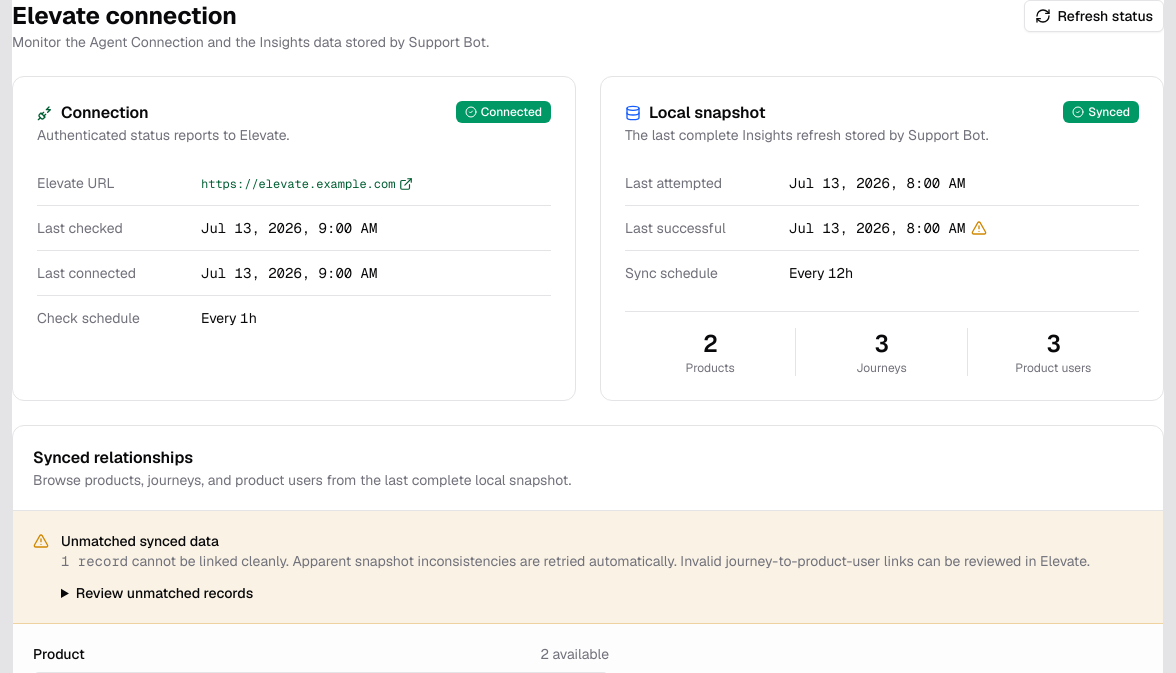
ElevatePage › renders both sides and product contexts of a cross-product assignment
The width and height of the screenshot is (1176, 673).
Click the heading "Review unmatched records".
click(157, 593)  # box [61, 583, 253, 603]
(page scrolled)
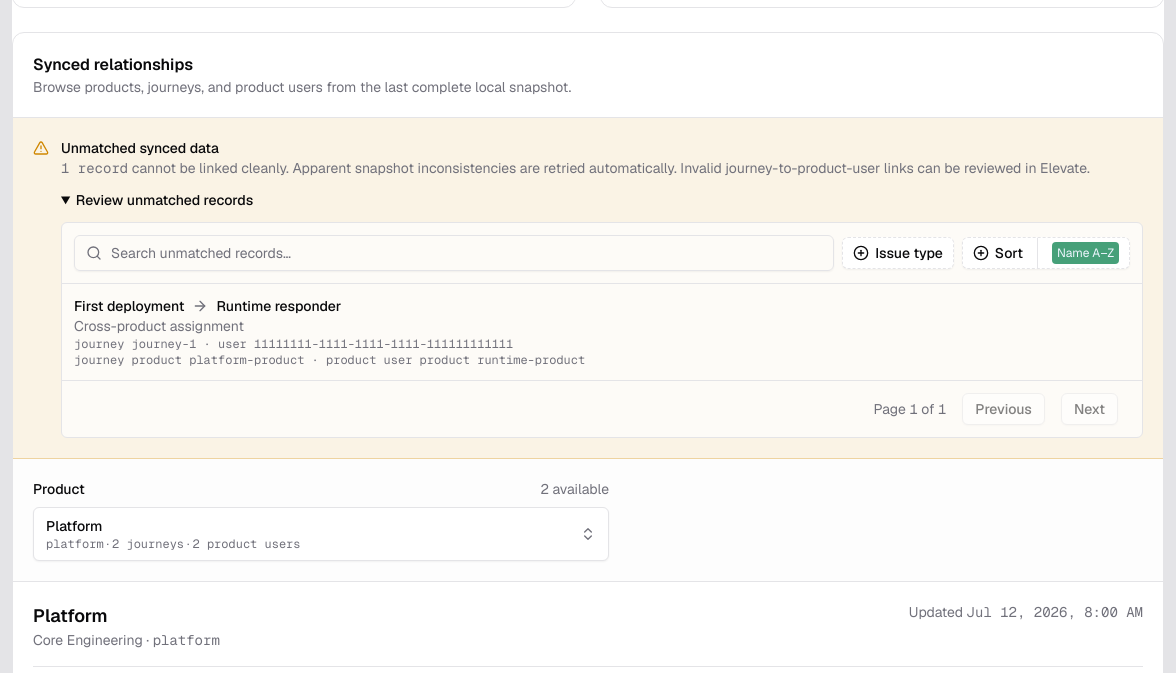
Now the text "First deployment" is shown, box [74, 296, 184, 316]
Now the text "Runtime responder" is shown, box [216, 296, 341, 316]
Now the text "journey product platform-product · product user product runtime-product" is shown, box [74, 352, 585, 368]
